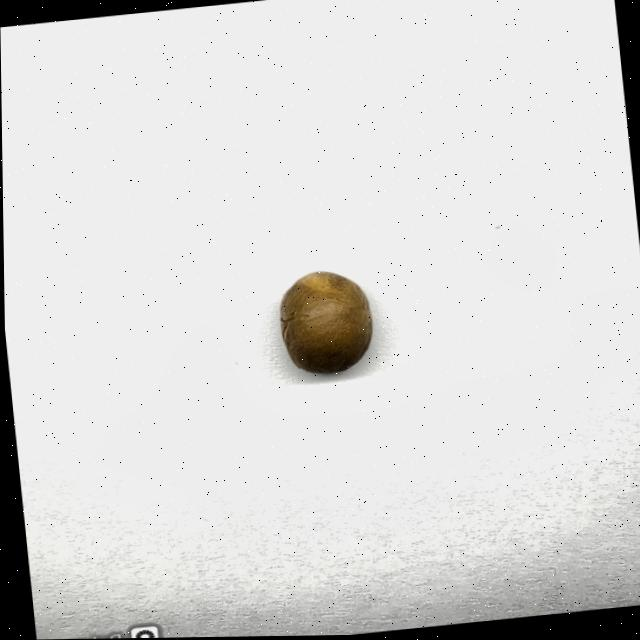Quaker: (273, 266, 377, 379)
